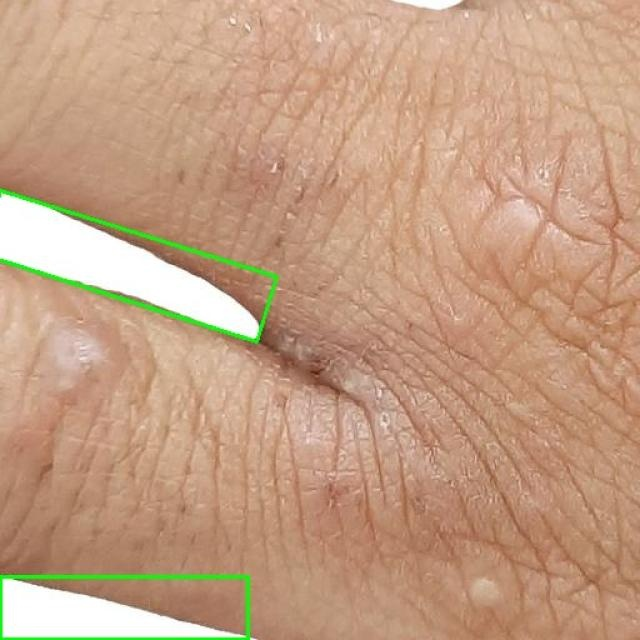Scabies: (0, 184, 278, 342), (0, 576, 248, 639)
